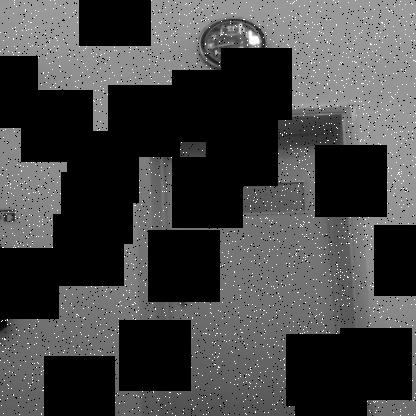Porte: (134, 100, 379, 416)
